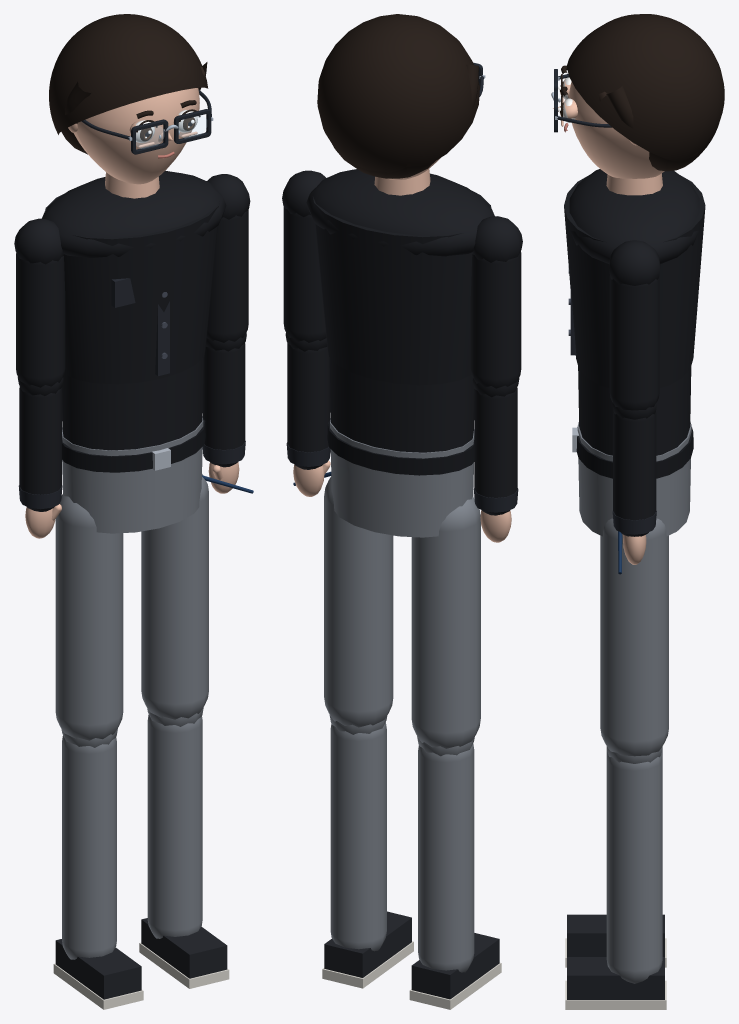
File: male_character.glb
3 views of the same model, side by side, from view 1: azimuth 30°, elevation 25°; view 2: azimuth 150°, elevation 25°; view 3: azimuth 270°, elevation 25° (orthographic). The views are drawn at different scales.
Visible parts, largest first — view 1: Chest, UpLegL, UpLegR, LegR, HairGroup, LegL, Hips, Spine, ArmL, HeadMesh, ArmR, ForeArmL (+8 smaller); view 2: Chest, HairGroup, UpLegL, UpLegR, LegL, LegR, Hips, Spine, ArmL, ArmR, ForeArmL, ForeArmR (+5 smaller); view 3: Chest, HairGroup, UpLegR, LegR, ArmR, Hips, ForeArmR, Spine, FootR, HeadMesh, FootL, Neck (+1 smaller).
Boxes of the visible parts, bbox=[...] form: Chest: bbox=[42, 171, 226, 384]; UpLegL: bbox=[55, 493, 123, 740]; UpLegR: bbox=[141, 474, 208, 719]; LegR: bbox=[147, 707, 203, 938]; HairGroup: bbox=[49, 14, 208, 154]; LegL: bbox=[61, 728, 117, 959]; Hips: bbox=[62, 416, 205, 533]; Spine: bbox=[61, 357, 203, 450]; ArmL: bbox=[14, 218, 65, 387]; HeadMesh: bbox=[73, 88, 199, 184]; ArmR: bbox=[206, 174, 250, 342]; ForeArmL: bbox=[17, 377, 63, 511]; Chest: bbox=[306, 169, 494, 385]; HairGroup: bbox=[317, 14, 479, 178]; UpLegL: bbox=[411, 496, 480, 748]; UpLegR: bbox=[324, 476, 393, 727]; LegL: bbox=[417, 736, 474, 972]; LegR: bbox=[329, 715, 387, 951]; Hips: bbox=[327, 418, 474, 537]; Spine: bbox=[329, 358, 474, 452]; ArmL: bbox=[470, 216, 522, 388]; ArmR: bbox=[282, 170, 326, 342]; ForeArmL: bbox=[472, 378, 519, 515]; ForeArmR: bbox=[285, 332, 330, 469]; Chest: bbox=[564, 169, 705, 387]; HairGroup: bbox=[566, 14, 724, 171]; UpLegR: bbox=[600, 518, 668, 756]; LegR: bbox=[606, 747, 662, 983]; ArmR: bbox=[609, 240, 660, 410]; Hips: bbox=[572, 422, 693, 536]; ForeArmR: bbox=[612, 402, 656, 536]; Spine: bbox=[578, 366, 691, 455]; FootR: bbox=[565, 957, 666, 1009]; HeadMesh: bbox=[569, 81, 664, 178]; FootL: bbox=[565, 914, 666, 967]; Neck: bbox=[606, 173, 662, 195].
Size of the model in its own units: 0.46 by 1.81 by 0.2975.
